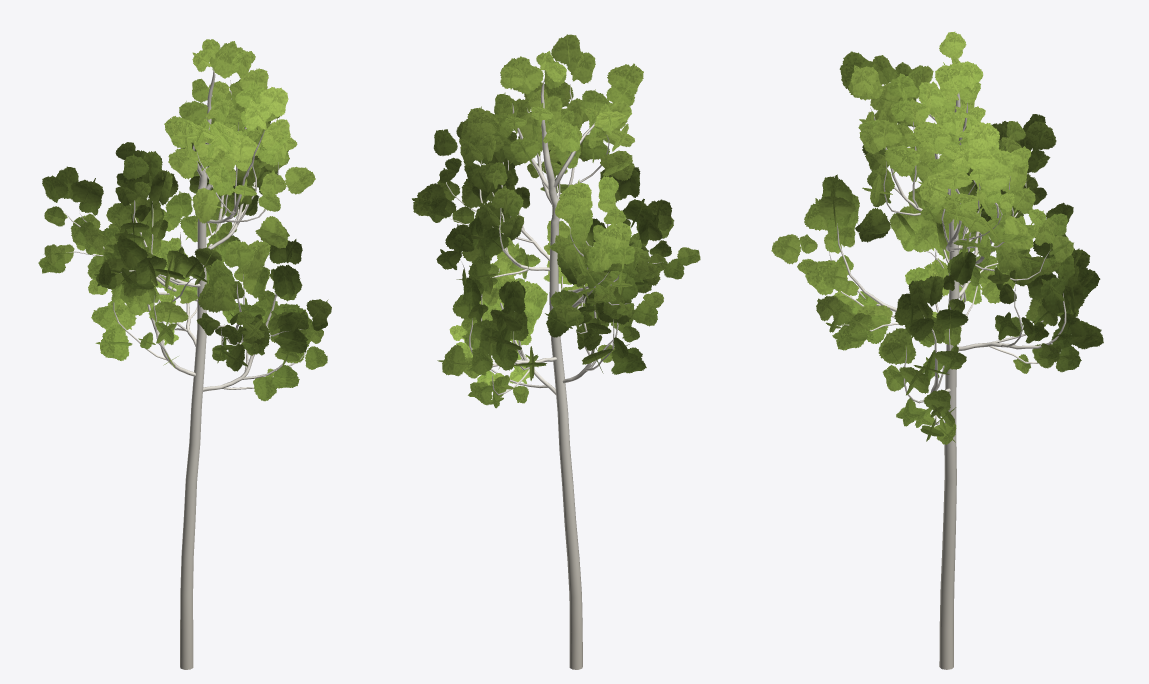
Rendered from abedul-alto.glb.
The picture shows the model from 3 angles, left to right: view 1: azimuth 30°, elevation 25°; view 2: azimuth 150°, elevation 25°; view 3: azimuth 270°, elevation 25°; orthographic projection. The views are drawn at different scales.
Visible parts, largest first — view 1: abedul; view 2: abedul; view 3: abedul.
Part boxes in pixels (x1=…): abedul: x1=38, y1=39, x2=331, y2=669; abedul: x1=412, y1=34, x2=700, y2=669; abedul: x1=771, y1=31, x2=1103, y2=669.
Size of the model in its own units: 6.77 by 14 by 7.44.
2 materials, 1 textured.
